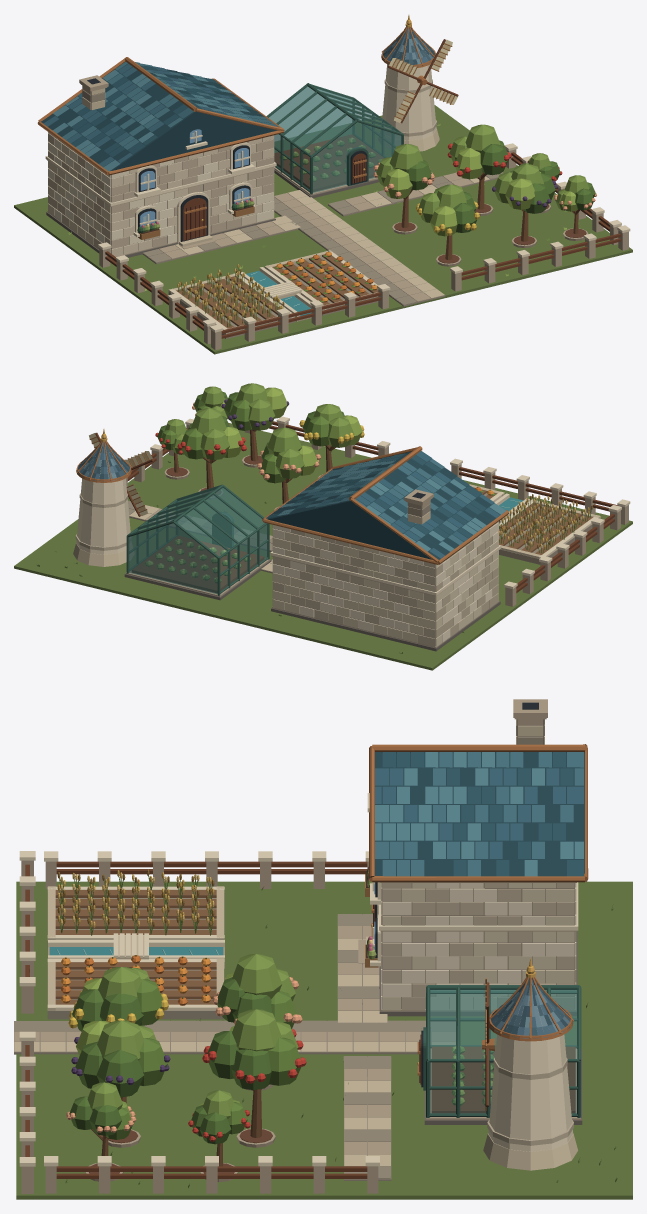
File: farm-nivel-9.glb
The picture shows the model from 3 angles, top to bottom: view 1: azimuth 30°, elevation 25°; view 2: azimuth 150°, elevation 25°; view 3: azimuth 270°, elevation 25°; orthographic projection. The views are drawn at different scales.
Visible parts, largest first — view 1: Fazenda 09 #677a42, Fazenda 09 #b4a38a, Fazenda 09 #e6d7ba, Fazenda 09 #294952, Fazenda 09 #57928c, Fazenda 09 #c0b198, Fazenda 09 #9b8f7c, Fazenda 09 #d5c7aa, Fazenda 09 #cebea0, Fazenda 09 #7a9448, Fazenda 09 #70432c, Fazenda 09 #e6d8be (+21 smaller); view 2: Fazenda 09 #677a42, Fazenda 09 #57928c, Fazenda 09 #294952, Fazenda 09 #d5c7aa, Fazenda 09 #c0b198, Fazenda 09 #e6d7ba, Fazenda 09 #7a9448, Fazenda 09 #e6d8be, Fazenda 09 #b4a38a, Fazenda 09 #385c50, Fazenda 09 #65823d, Fazenda 09 #6d4733 (+17 smaller); view 3: Fazenda 09 #677a42, Fazenda 09 #e6d7ba, Fazenda 09 #b4a38a, Fazenda 09 #9b8f7c, Fazenda 09 #567337, Fazenda 09 #cebea0, Fazenda 09 #294952, Fazenda 09 #886345, Fazenda 09 #c0b198, Fazenda 09 #e6d8be, Fazenda 09 #7a9448, Fazenda 09 #57928c (+23 smaller).
Boxes of the visible parts, x1,y1,x2,y2 form: Fazenda 09 #677a42: (14, 105, 632, 354); Fazenda 09 #b4a38a: (47, 75, 628, 350); Fazenda 09 #e6d7ba: (45, 64, 630, 333); Fazenda 09 #294952: (41, 63, 276, 170); Fazenda 09 #57928c: (268, 86, 401, 192); Fazenda 09 #c0b198: (48, 51, 436, 253); Fazenda 09 #9b8f7c: (82, 89, 503, 339); Fazenda 09 #d5c7aa: (48, 135, 274, 256); Fazenda 09 #cebea0: (82, 88, 489, 334); Fazenda 09 #7a9448: (68, 120, 599, 276); Fazenda 09 #70432c: (105, 152, 621, 338); Fazenda 09 #e6d8be: (48, 132, 274, 244); Fazenda 09 #677a42: (14, 422, 632, 670); Fazenda 09 #57928c: (129, 487, 267, 594); Fazenda 09 #294952: (267, 451, 500, 559); Fazenda 09 #d5c7aa: (272, 528, 498, 646); Fazenda 09 #c0b198: (75, 460, 498, 647); Fazenda 09 #e6d7ba: (76, 416, 630, 595); Fazenda 09 #7a9448: (55, 383, 464, 653); Fazenda 09 #e6d8be: (272, 521, 498, 642); Fazenda 09 #b4a38a: (126, 421, 628, 647); Fazenda 09 #385c50: (126, 484, 269, 595); Fazenda 09 #65823d: (37, 399, 591, 616); Fazenda 09 #6d4733: (132, 455, 321, 592); Fazenda 09 #677a42: (16, 881, 632, 1199); Fazenda 09 #e6d7ba: (19, 793, 578, 1166); Fazenda 09 #b4a38a: (14, 699, 580, 1193); Fazenda 09 #9b8f7c: (14, 719, 544, 1180); Fazenda 09 #567337: (69, 977, 494, 1144); Fazenda 09 #cebea0: (14, 719, 577, 1170); Fazenda 09 #294952: (375, 752, 584, 876); Fazenda 09 #886345: (55, 890, 216, 1004); Fazenda 09 #c0b198: (381, 883, 576, 1145); Fazenda 09 #e6d8be: (381, 883, 576, 1009); Fazenda 09 #7a9448: (65, 907, 615, 1183); Fazenda 09 #57928c: (430, 989, 576, 1113).
Size of the model in its own units: 17.81 by 5.67 by 14.84.
